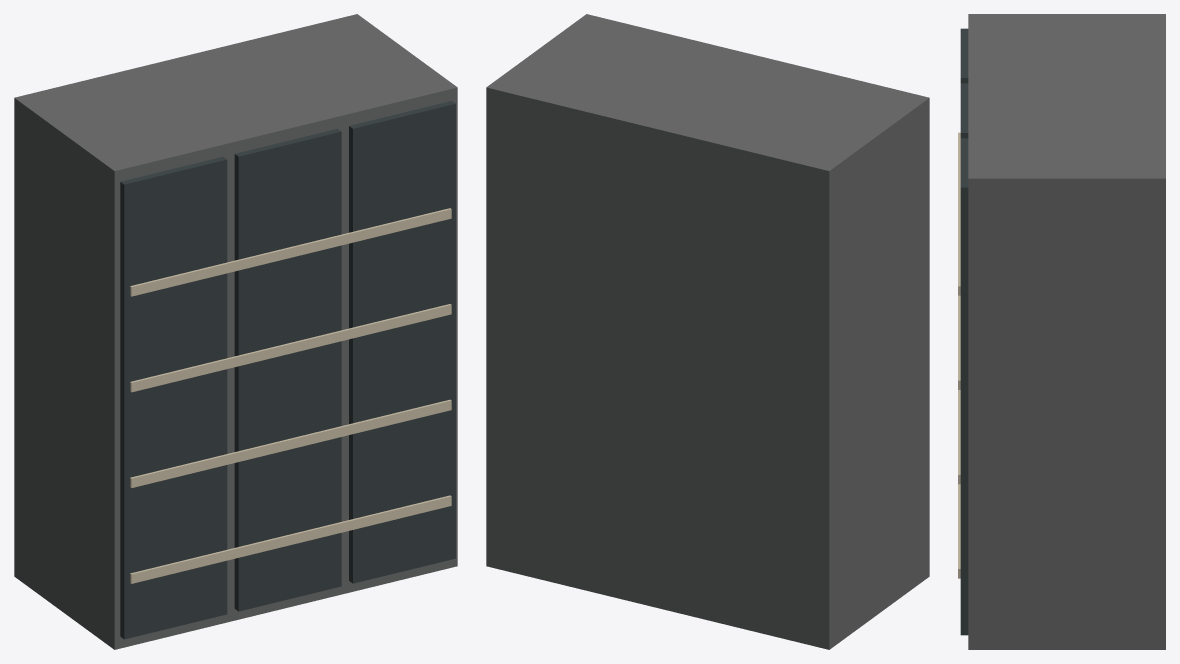
File: parts-drawer-cabinet.glb
3 views of the same model, side by side, from view 1: azimuth 30°, elevation 25°; view 2: azimuth 150°, elevation 25°; view 3: azimuth 270°, elevation 25° (orthographic).
Parts seen in each view (by area): view 1: glass, metal, paper; view 2: metal; view 3: metal, glass, paper.
Part boxes in pixels (x1,y1,x2,y2): glass: (120, 101, 455, 639); metal: (14, 14, 457, 649); paper: (130, 208, 451, 583); metal: (486, 14, 929, 649); metal: (968, 14, 1165, 649); glass: (960, 28, 968, 635); paper: (958, 132, 960, 578).
Size of the model in its own units: 0.3 by 0.4 by 0.16.
